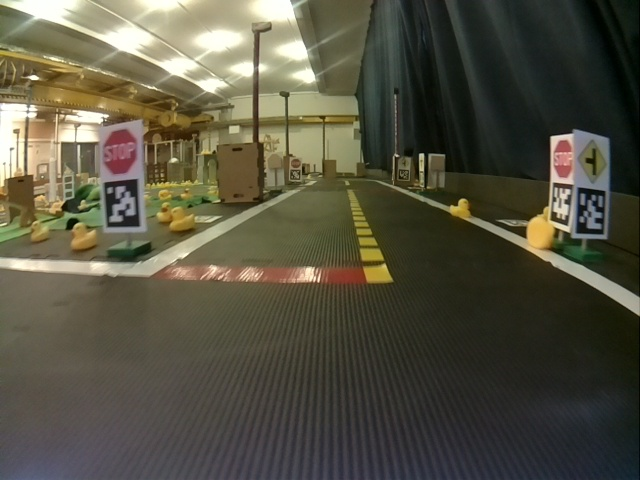Duckie: (526, 217, 555, 247), (71, 224, 97, 249), (170, 209, 190, 231), (450, 198, 471, 218), (30, 223, 49, 240), (157, 204, 173, 222), (181, 188, 191, 199)
Intersection sign: (576, 136, 608, 184)
QR code: (103, 179, 141, 230), (576, 187, 608, 236), (550, 186, 570, 228), (289, 170, 301, 181), (397, 170, 408, 181)
Stop sign: (104, 127, 139, 175), (554, 138, 574, 180), (290, 158, 301, 168)
